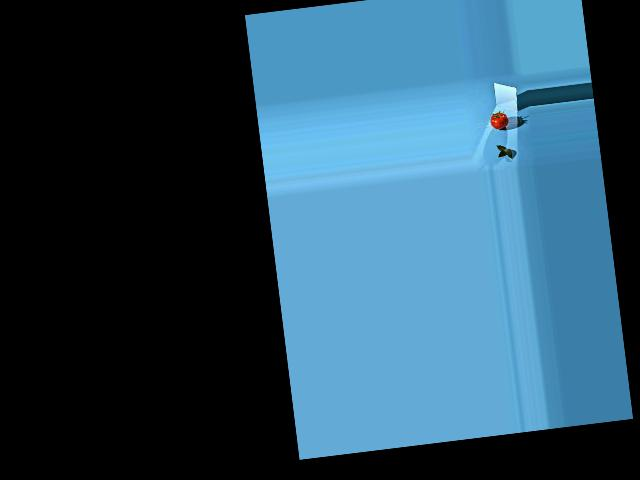tomato: (489, 111, 509, 130)
